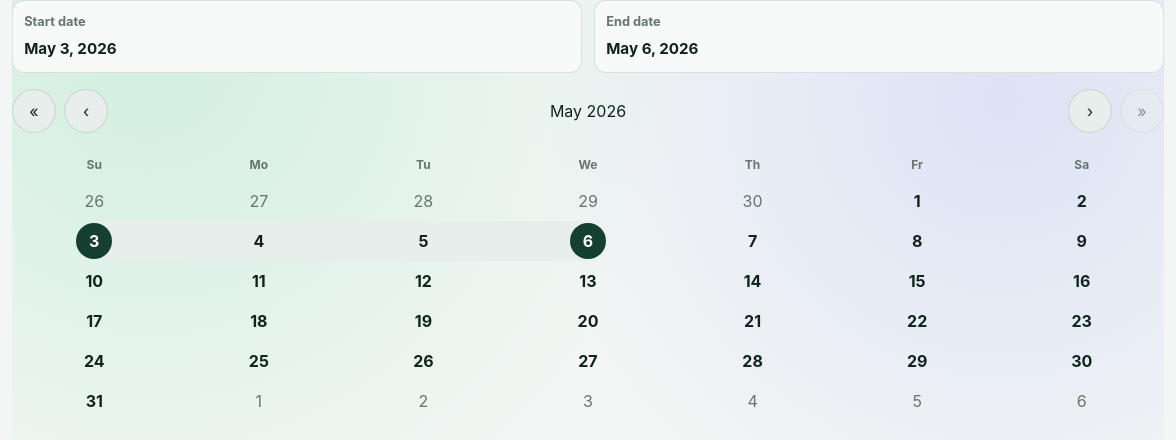
Test case: DateRangePicker six-week calendar › navigates by month and year without changing the draft
What coordinates should you click on to do the following:
click the button named "Previous year"
I would click on:
 (34, 111)
Its box is [12, 89, 56, 133].
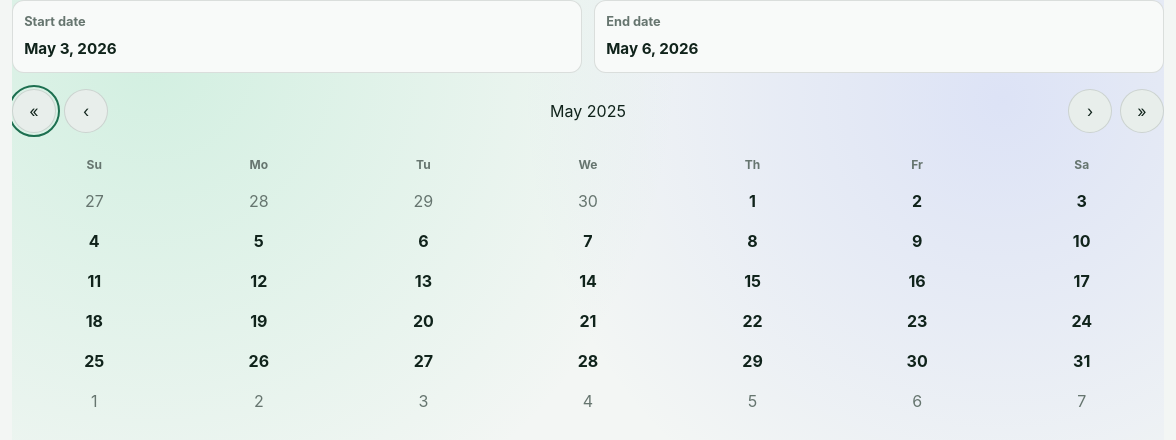
Expected: the heading "May 2025" is shown, [550, 101, 626, 121]
What coordinates should you click on to do the following:
click the button named "Next year"
I would click on:
 (1142, 111)
Its box is [1120, 89, 1164, 133].
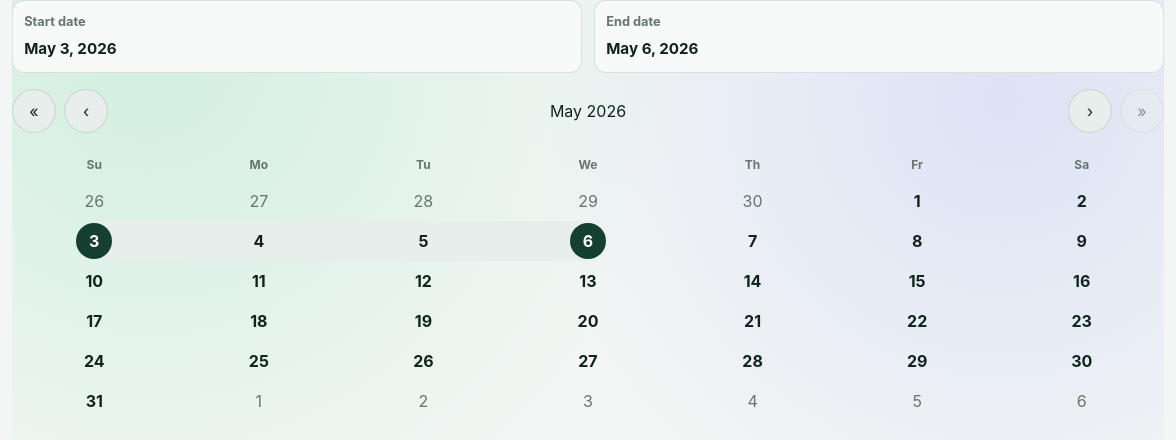
What coordinates should you click on to do the following:
click the button named "Previous month"
I would click on:
 (86, 111)
Its box is [64, 89, 108, 133].
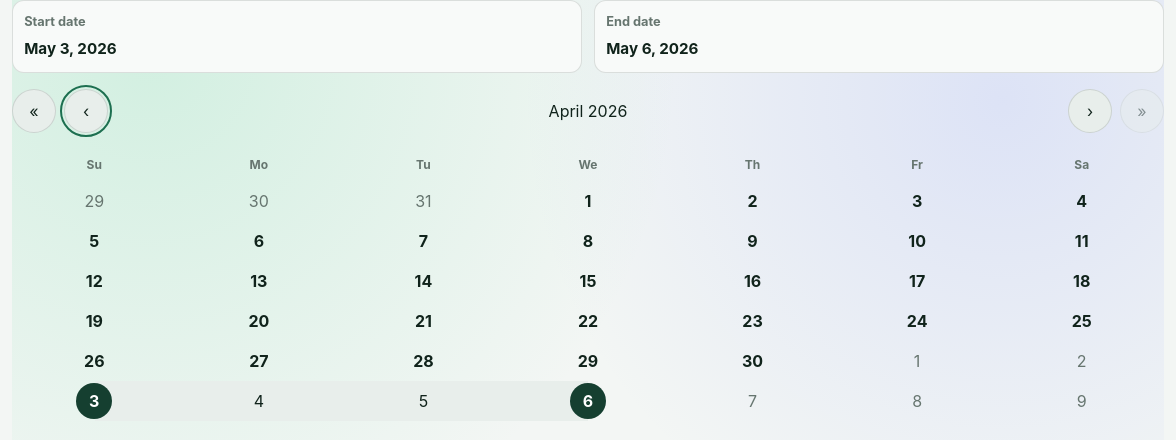
Expected: the text "May 3, 2026" is shown, [24, 39, 117, 58]
Expected: the heading "April 2026" is shown, [549, 101, 627, 121]
